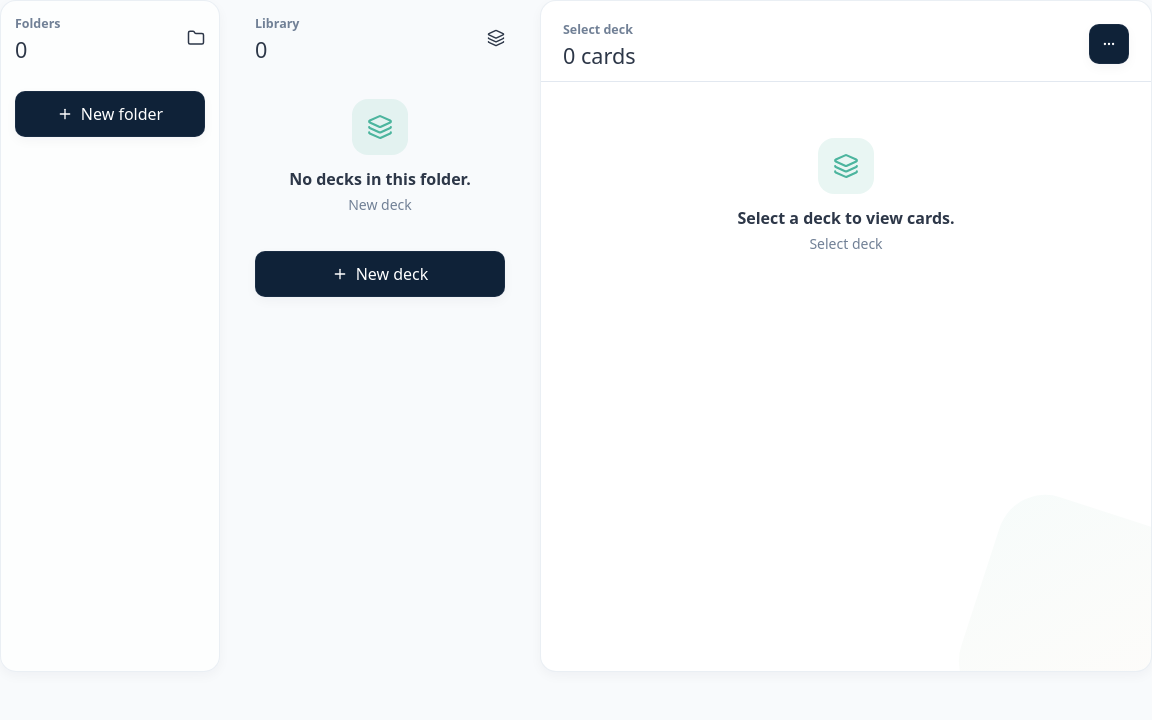
Test case: LibraryPage › opens trash from Library and restores a trashed card into the active grid
Press ArrowDown in the button named "card actions", box [1089, 24, 1129, 64]
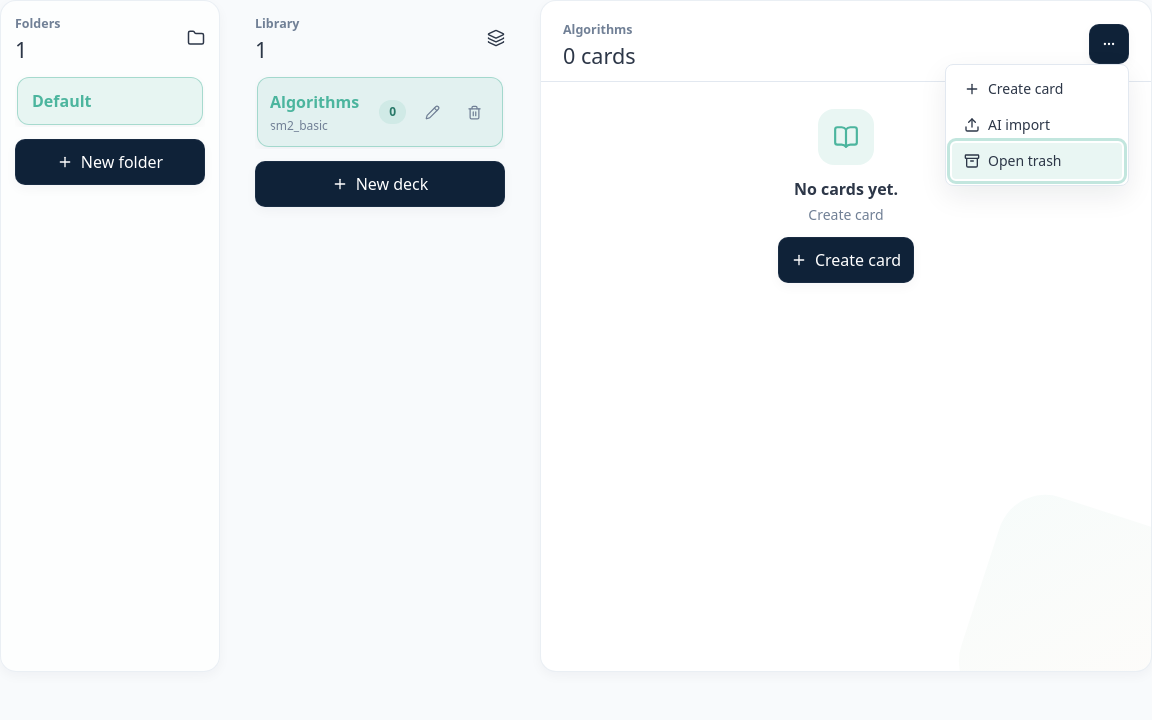
Click the menu item "Open trash" at (1037, 161), box [952, 143, 1122, 179]
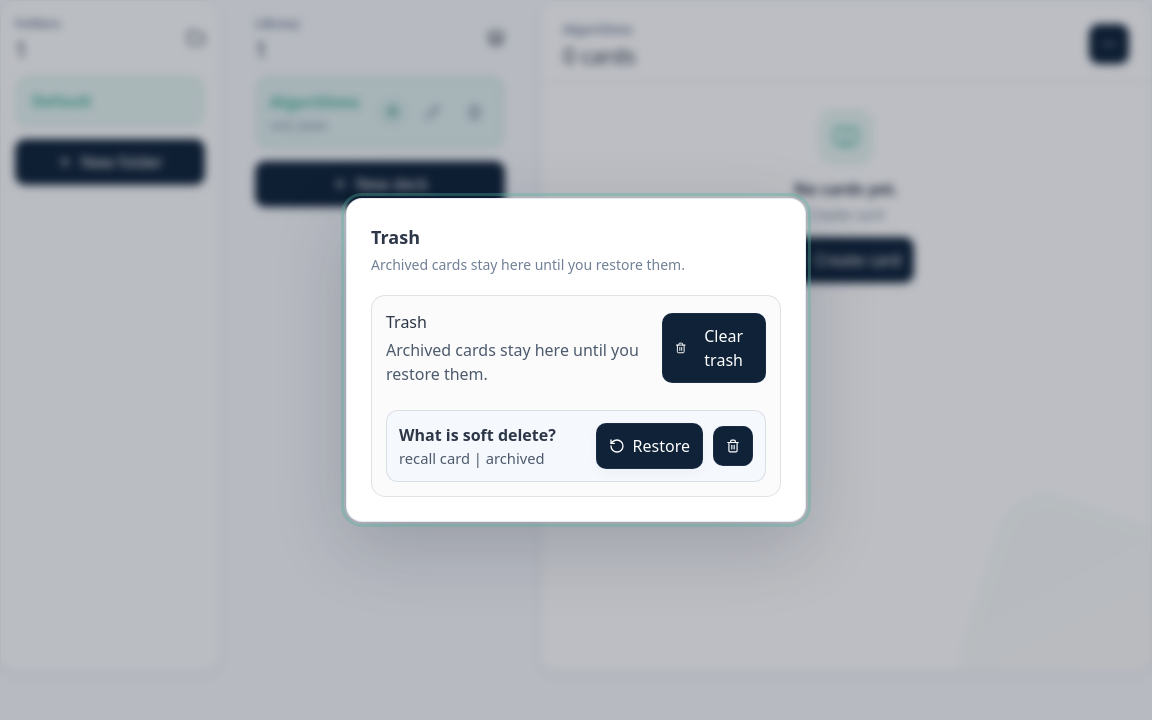
Expected: the text "What is soft delete?" is shown, [399, 423, 556, 447]
Click the button with aria-label "restore what is soft delete?" at (649, 446), box [596, 423, 703, 469]
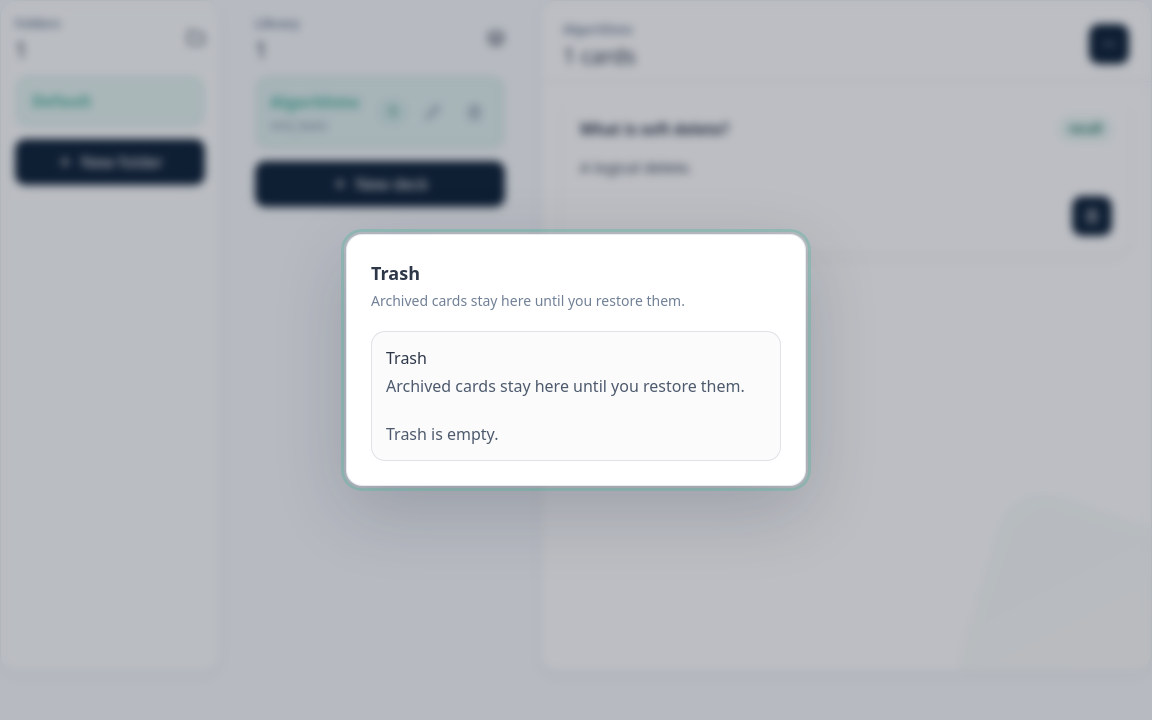
Press Escape in the dialog "Trash", box [346, 234, 806, 486]
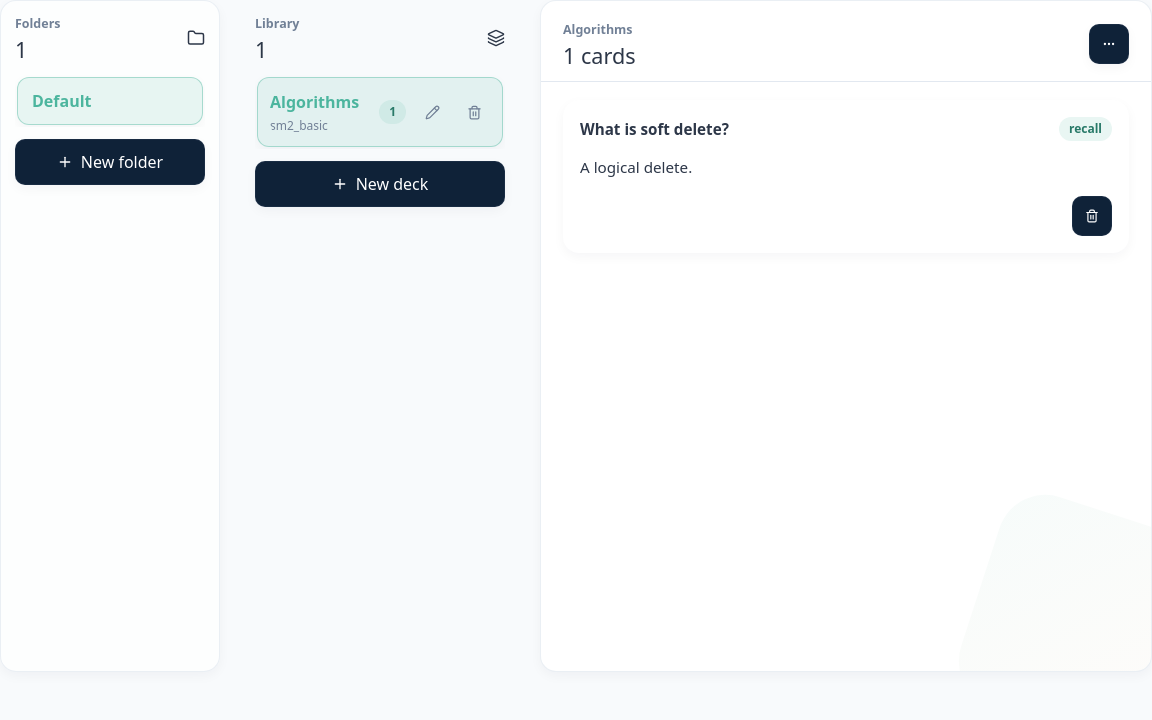
Expected: the button with aria-label "edit what is soft delete" is shown, [564, 102, 1128, 196]
Expected: the heading "Trash" is gone
